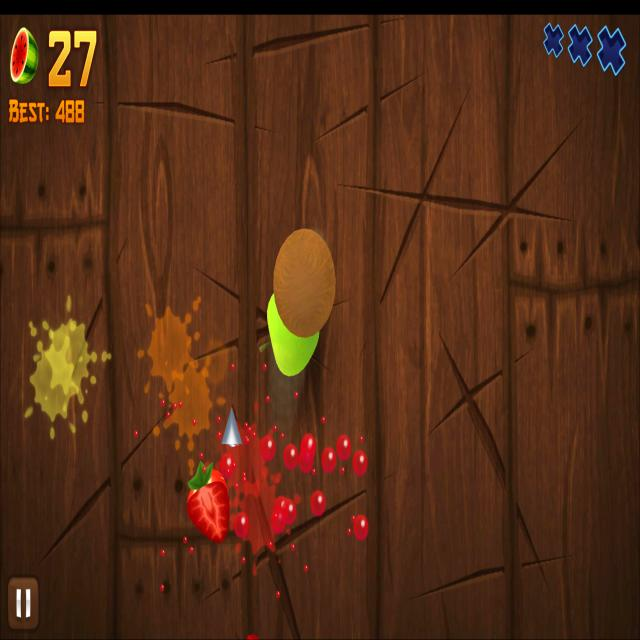fruit: (273, 228, 336, 338), (267, 293, 321, 377)
